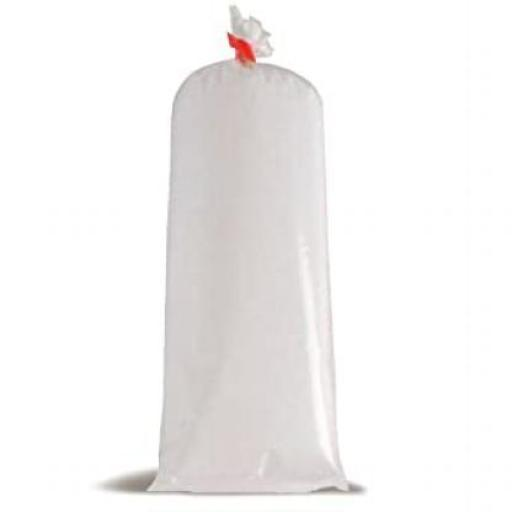plastic bag: (146, 31, 360, 503)
